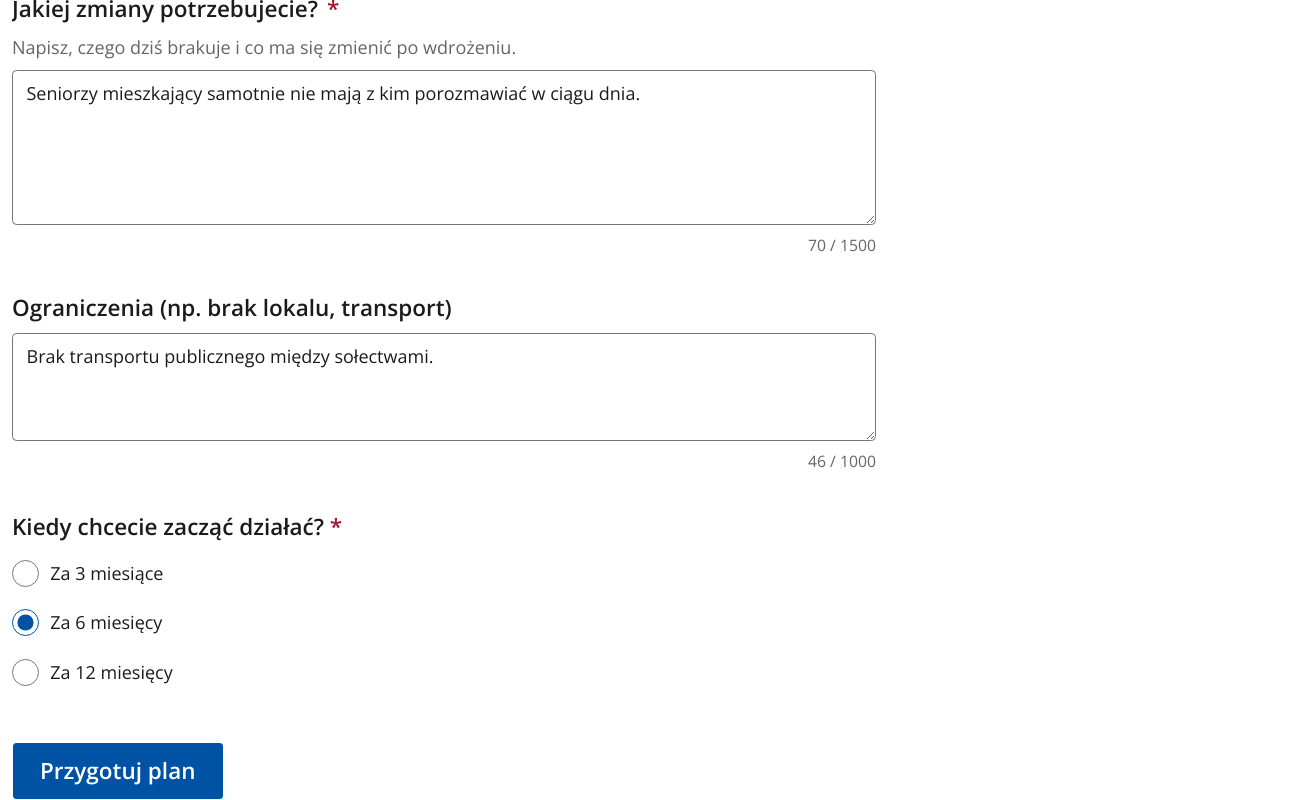
Test case: InstitutionFlow › puts the loading text in the live region and can be interrupted
(page scrolled)
Click the button "Przygotuj plan". click: point(118, 771)
box: [12,742,224,799]
(page scrolled)
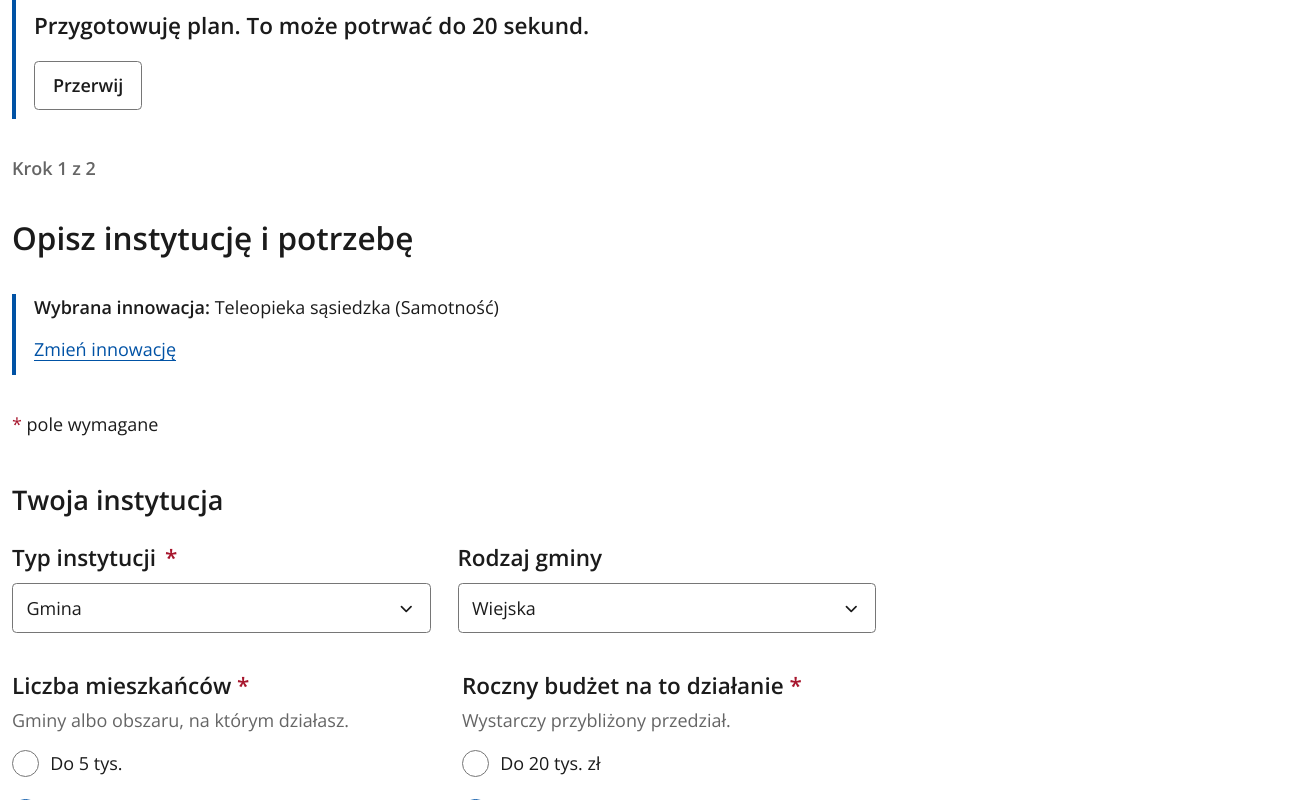
Click the button "Przerwij". click: point(88, 86)
box: [34,61,142,110]
(page scrolled)
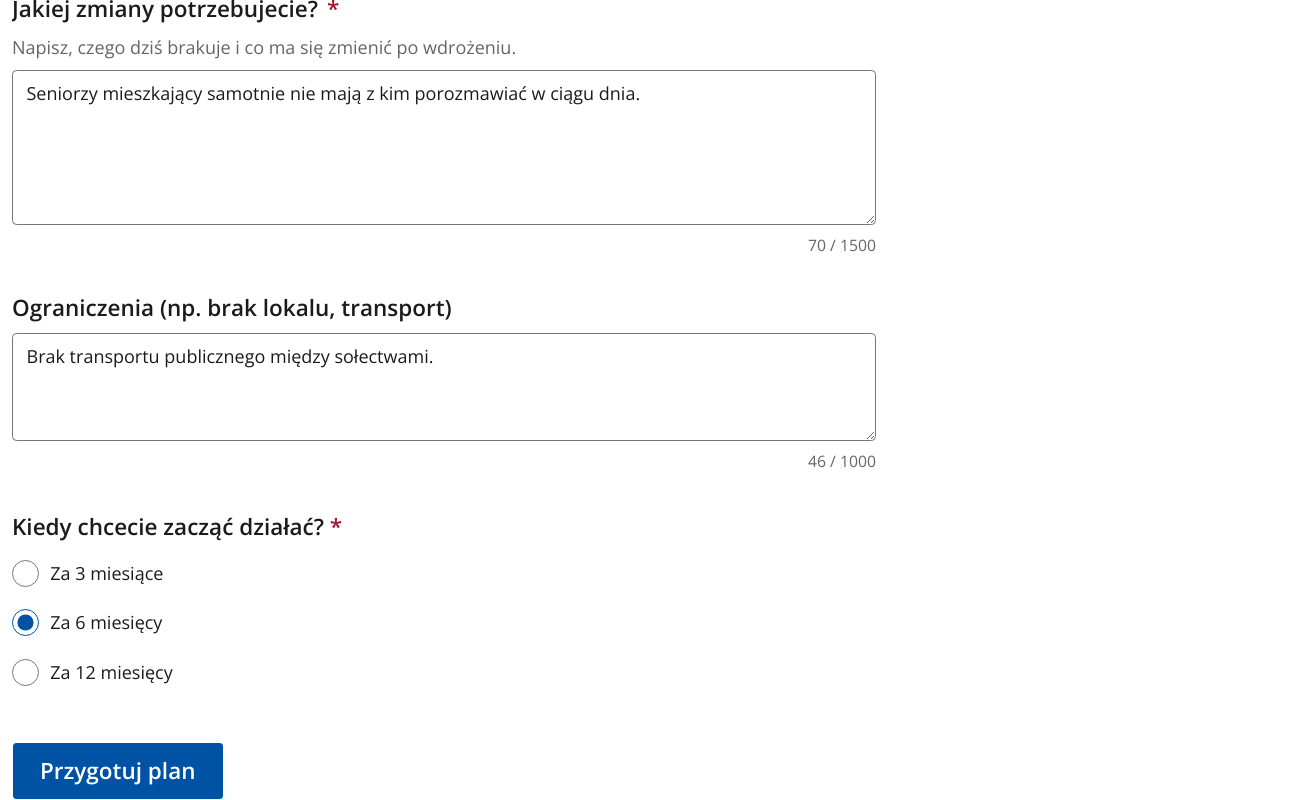
Expected: the button "Przerwij" is gone
Click the button "Przygotuj plan". click: point(118, 771)
box: [12,742,224,799]
(page scrolled)
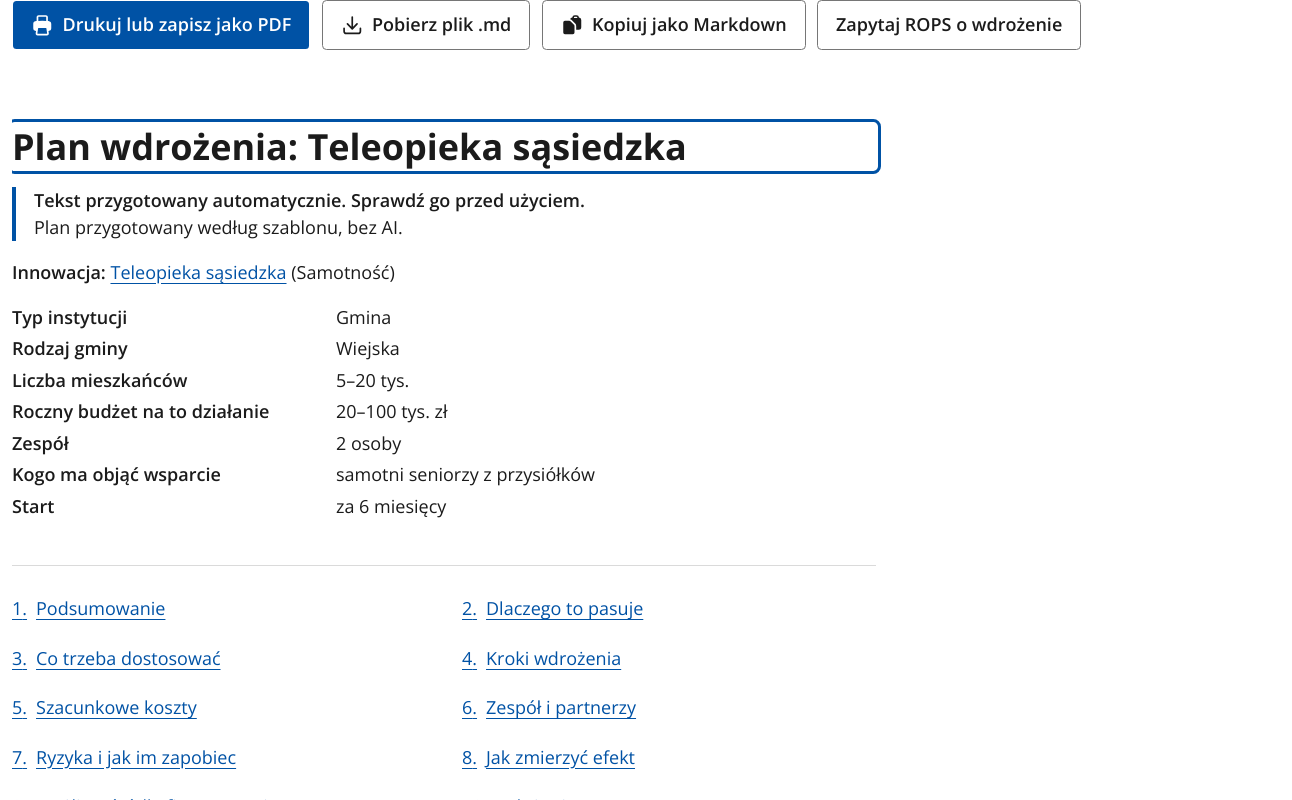
Expected: the heading "Plan wdrożenia: Teleopieka sąsiedzka" is shown, [12,122,687,171]
